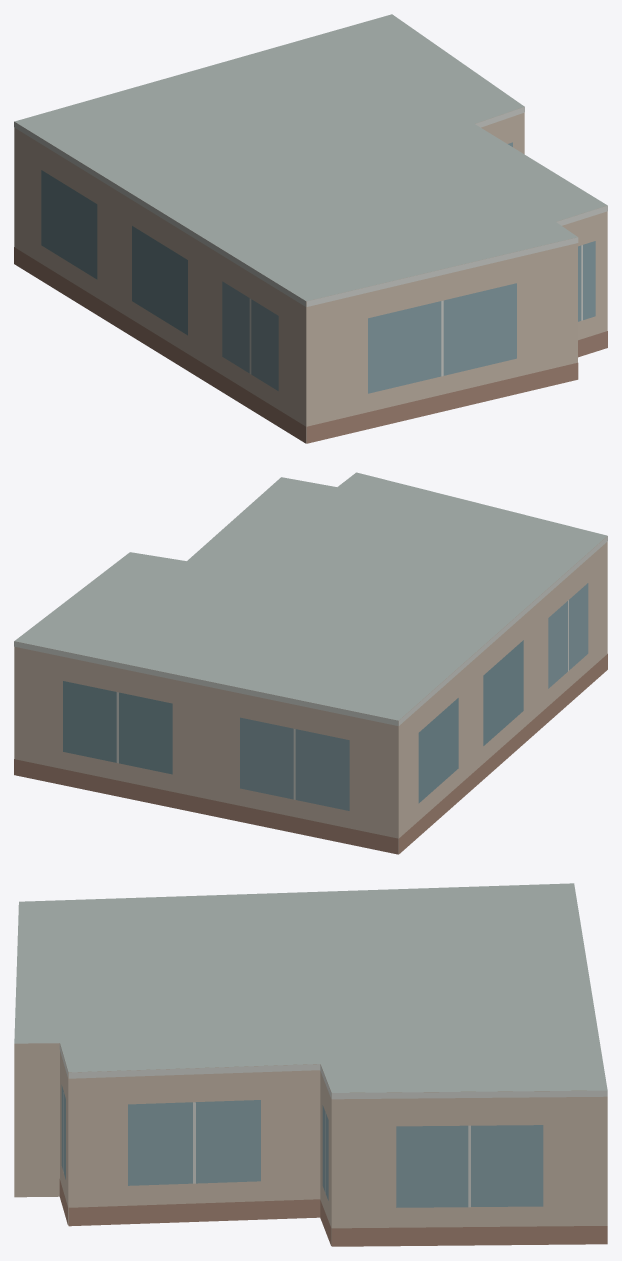
File: survey-upis-32728961.glb
The picture shows the model from 3 angles, top to bottom: view 1: azimuth 30°, elevation 25°; view 2: azimuth 150°, elevation 25°; view 3: azimuth 270°, elevation 25°; orthographic projection. The views are drawn at different scales.
Visible parts, largest first — view 1: survey-upis-32728961.tmp; view 2: survey-upis-32728961.tmp; view 3: survey-upis-32728961.tmp.
Boxes of the visible parts, x1,y1,x2,y2 form: survey-upis-32728961.tmp: (14,14,607,443); survey-upis-32728961.tmp: (14,472,607,854); survey-upis-32728961.tmp: (14,883,607,1246).
Size of the model in its own units: 8.94 by 3.05 by 10.69.
